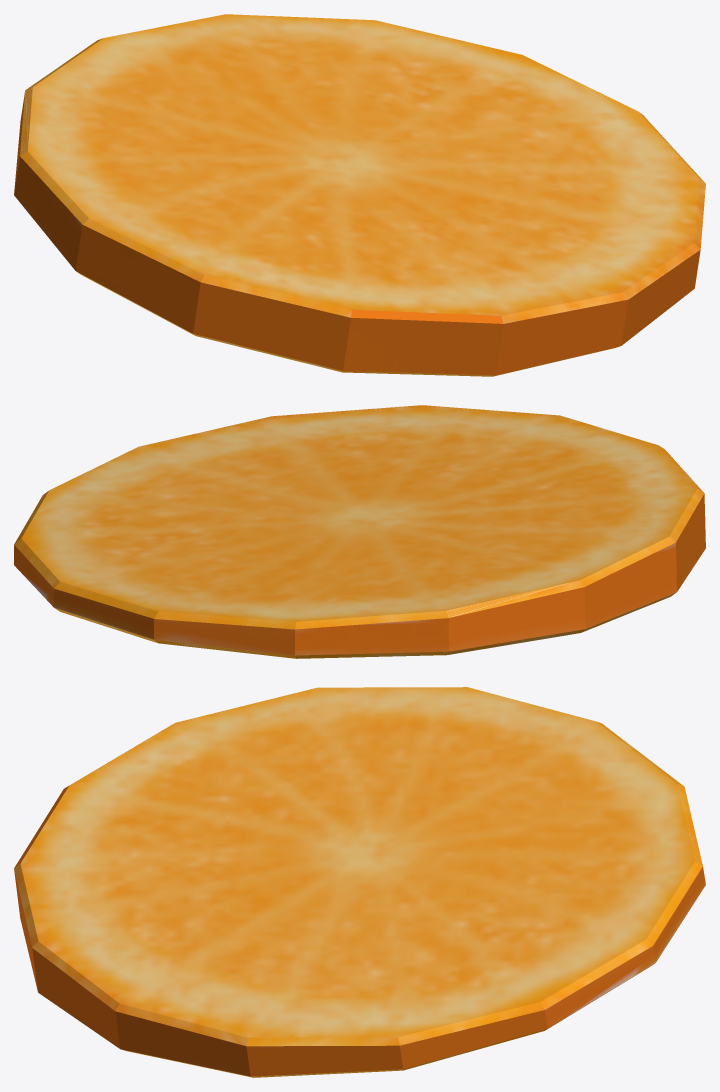
The model's file is orange_slice.fbx.
3 renders of one model, top to bottom at view 1: azimuth 30°, elevation 25°; view 2: azimuth 150°, elevation 25°; view 3: azimuth 270°, elevation 25°, orthographic.
Parts seen in each view (by area): view 1: Circle.002; view 2: Circle.002; view 3: Circle.002.
Boxes of the visible parts, x1,y1,x2,y2 form: Circle.002: (14,14,705,376); Circle.002: (14,405,705,658); Circle.002: (14,687,705,1077).
Size of the model in its own units: 45.01 by 9.37 by 45.11.
